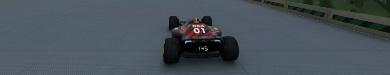Car: (162, 15, 239, 64)
obstacles-Borders: (240, 0, 389, 45)
